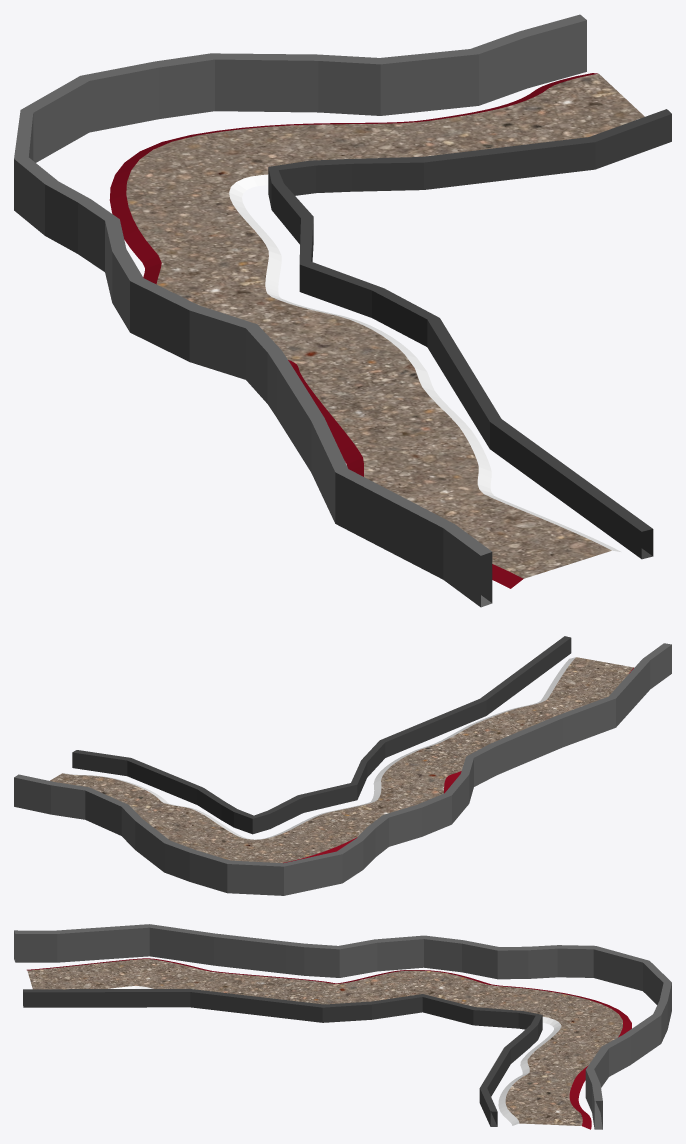
The model's file is KartTrackS2.fbx.
3 views of the same model, one above another, from view 1: azimuth 30°, elevation 25°; view 2: azimuth 150°, elevation 25°; view 3: azimuth 270°, elevation 25° (orthographic). The views are drawn at different scales.
Parts seen in each view (by area): view 1: PistaS2; view 2: PistaS2; view 3: PistaS2.
Boxes of the visible parts, x1,y1,x2,y2 form: PistaS2: [14, 14, 671, 607]; PistaS2: [14, 636, 671, 895]; PistaS2: [14, 924, 671, 1129].
Bounding box in the file's own units: 9926 × 749 × 15560.
